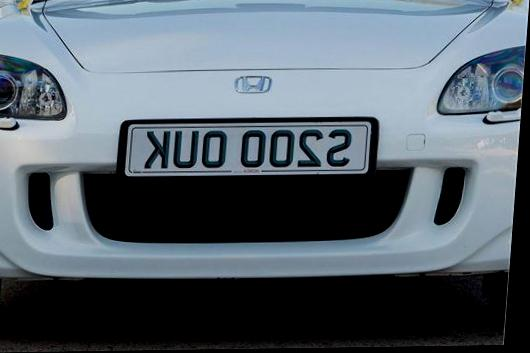License_Plate: (110, 115, 379, 187)
